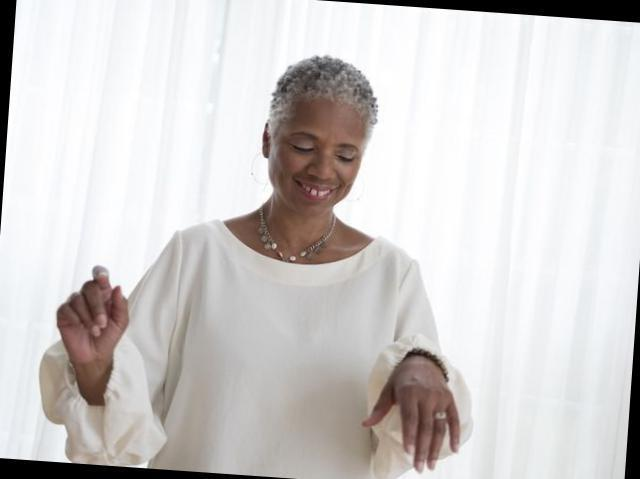Sober: (268, 99, 360, 210)
